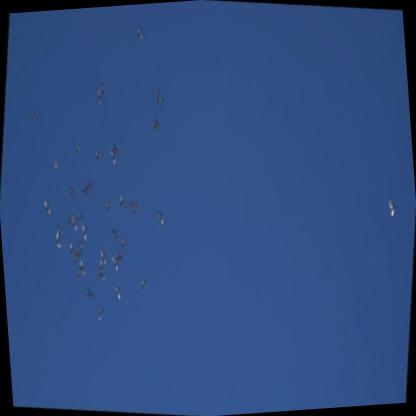bird: (51, 223, 68, 251), (384, 195, 400, 221), (75, 260, 89, 281), (118, 192, 131, 212), (153, 87, 166, 106), (152, 114, 165, 133), (92, 143, 105, 162), (96, 77, 107, 98), (95, 86, 106, 107), (43, 197, 54, 218), (135, 24, 147, 43), (77, 223, 89, 242), (154, 209, 165, 228), (95, 305, 106, 324), (70, 215, 80, 235), (112, 283, 123, 301), (127, 198, 140, 213), (111, 255, 121, 274), (51, 157, 62, 174), (84, 176, 95, 193), (98, 249, 109, 266), (109, 138, 121, 153), (140, 272, 149, 291), (28, 106, 38, 123), (109, 149, 119, 166), (119, 234, 129, 251), (68, 241, 78, 258), (85, 285, 97, 299), (101, 198, 112, 213), (109, 226, 120, 241), (82, 181, 92, 197), (76, 238, 85, 255), (97, 267, 107, 282), (66, 212, 75, 228), (114, 250, 125, 263), (74, 141, 83, 156), (67, 184, 77, 197), (73, 251, 81, 265), (76, 212, 86, 223)
